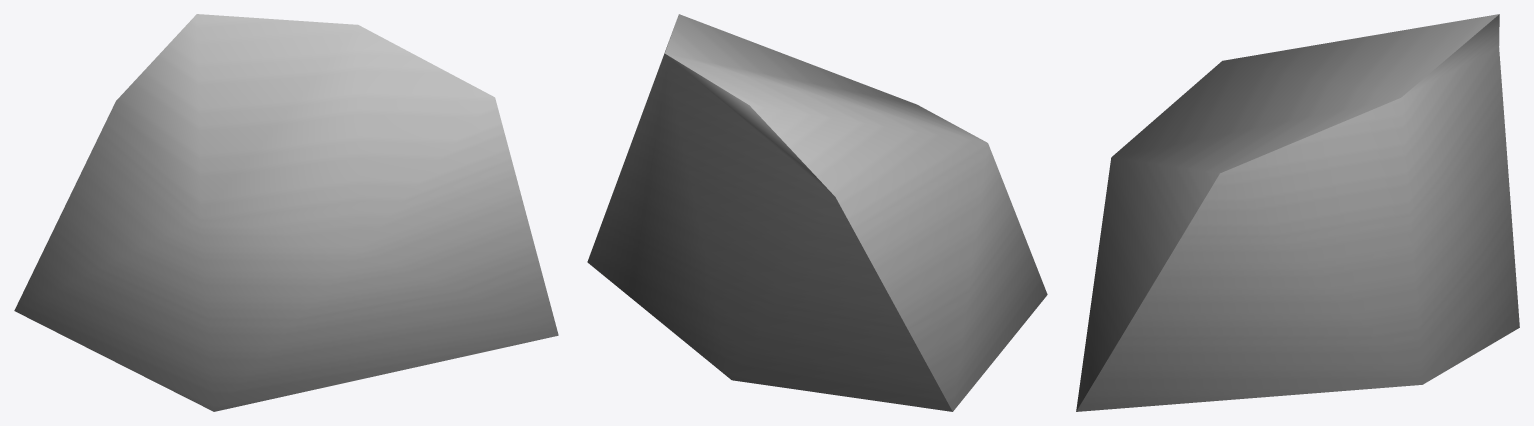
File: Rock.fbx
3 views of the same model, side by side, from view 1: azimuth 30°, elevation 25°; view 2: azimuth 150°, elevation 25°; view 3: azimuth 270°, elevation 25° (orthographic). The views are drawn at different scales.
Parts seen in each view (by area): view 1: Rock; view 2: Rock; view 3: Rock.
Boxes of the visible parts, x1,y1,x2,y2 form: Rock: [14, 14, 558, 411]; Rock: [587, 14, 1047, 411]; Rock: [1076, 14, 1519, 411].
Size of the model in its own units: 20.97 by 15.09 by 17.86.
Materials: 1 (1 with a texture image).
